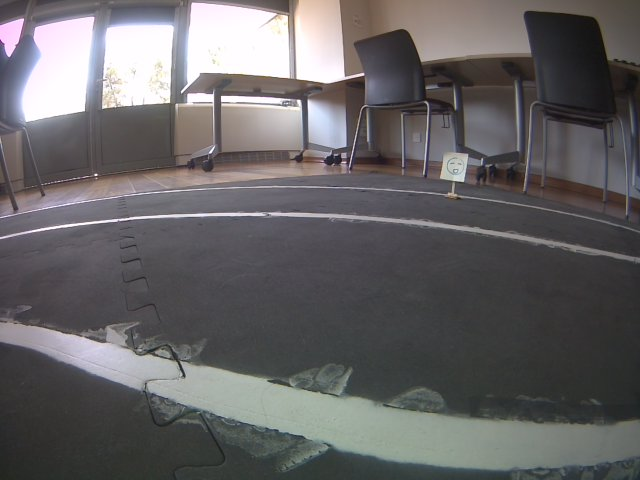Smiley: (439, 151, 468, 183)
